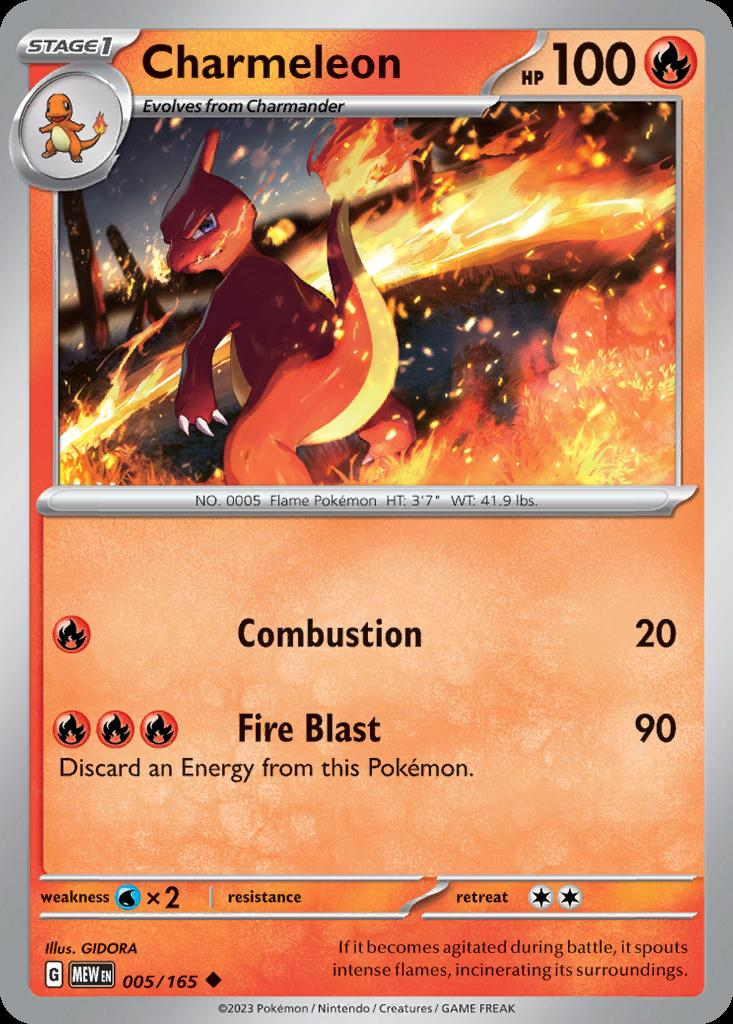card: (3, 0, 733, 1024)
hp: (497, 27, 703, 94)
name: (134, 23, 433, 86)
set num: (124, 964, 199, 997)
set symbol: (64, 954, 119, 996)
